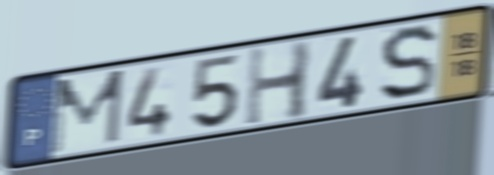4: (315, 32, 368, 112), (125, 63, 176, 140)
5: (191, 51, 241, 129)
H: (241, 37, 315, 131)
M: (47, 66, 128, 158)
S: (378, 23, 439, 105)
